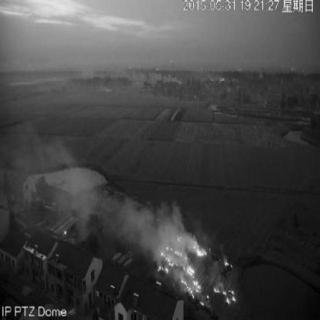Fire: (157, 224, 209, 306), (224, 260, 232, 273)
Smoke: (120, 197, 158, 255)
